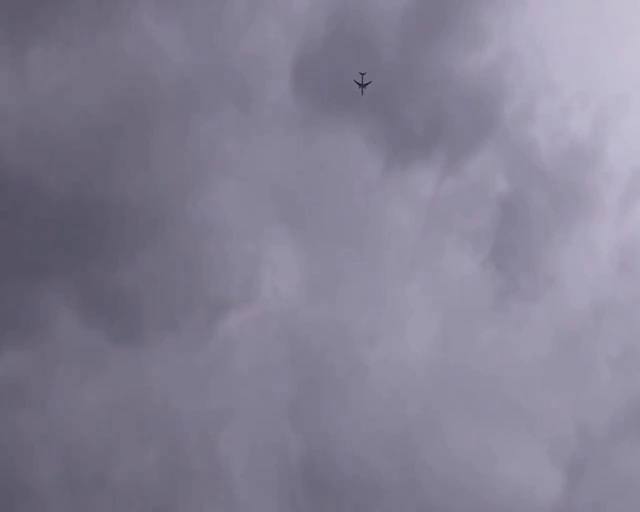AIRPLANE: (352, 71, 373, 95)
